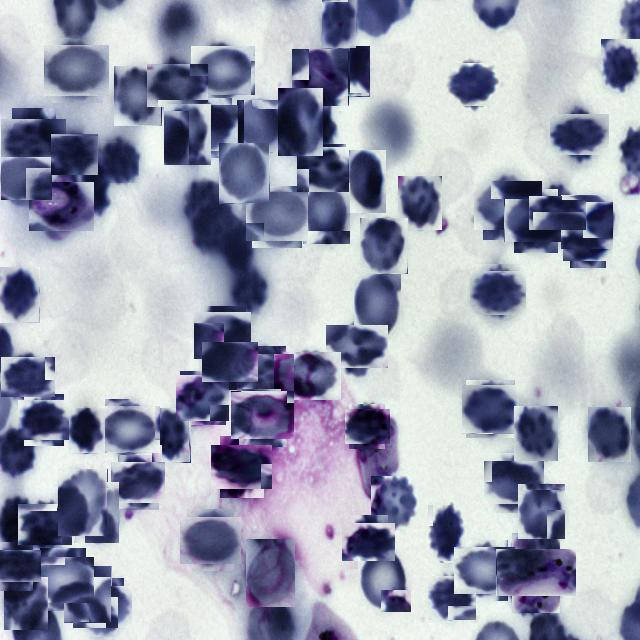red blood cell: (358, 547, 412, 613), (478, 177, 538, 236), (246, 539, 296, 608), (48, 41, 106, 100), (58, 469, 108, 537), (194, 42, 252, 99), (249, 189, 305, 245), (234, 387, 290, 443), (354, 274, 402, 339), (219, 143, 270, 204), (278, 88, 323, 156), (6, 114, 62, 168), (303, 183, 351, 245), (164, 104, 212, 166), (102, 402, 156, 457), (36, 552, 90, 607), (184, 513, 238, 567), (285, 348, 339, 402), (457, 544, 511, 598), (508, 194, 562, 248), (114, 66, 162, 126), (464, 382, 517, 436), (560, 195, 613, 249), (74, 482, 120, 544), (196, 308, 248, 362), (331, 321, 384, 373), (151, 59, 203, 112), (182, 102, 235, 154), (216, 441, 268, 494), (64, 566, 112, 623), (488, 457, 540, 509), (360, 218, 408, 274), (518, 484, 566, 540), (236, 100, 286, 153), (77, 582, 128, 633), (472, 268, 524, 318), (371, 476, 418, 530), (346, 150, 386, 213), (554, 109, 604, 159), (240, 350, 290, 400), (178, 373, 228, 423), (0, 153, 49, 204), (588, 407, 632, 462), (514, 406, 558, 461), (298, 146, 348, 194), (398, 176, 442, 230), (448, 60, 496, 109), (4, 577, 48, 630), (114, 458, 162, 506), (4, 354, 52, 402), (21, 501, 69, 549), (206, 338, 254, 386), (0, 267, 40, 323), (428, 504, 466, 562), (534, 190, 580, 237), (152, 408, 191, 463), (429, 574, 475, 620), (21, 397, 67, 443), (346, 519, 392, 565), (601, 39, 640, 93), (330, 46, 370, 97), (52, 132, 97, 176), (566, 222, 609, 264), (322, 0, 357, 49), (69, 408, 106, 453), (347, 406, 387, 446), (100, 140, 138, 182), (0, 546, 37, 588)
trophozoite: (504, 540, 568, 604), (32, 178, 90, 235), (292, 49, 349, 106)
